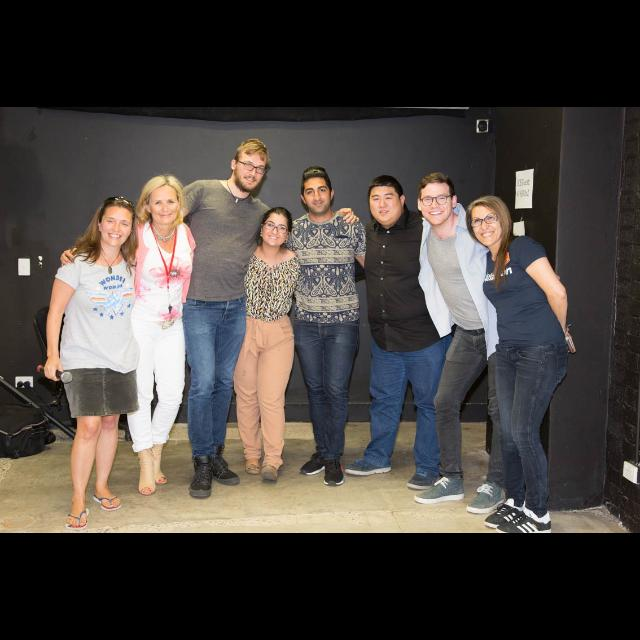head: (416, 173, 458, 227), (468, 196, 508, 248), (143, 176, 183, 226), (368, 175, 406, 225), (96, 201, 136, 247), (232, 142, 268, 192), (260, 206, 294, 248), (301, 172, 335, 214)
person: (56, 135, 362, 502), (410, 169, 520, 516), (41, 194, 143, 534), (344, 172, 451, 496), (278, 162, 370, 490), (116, 169, 200, 499), (228, 204, 306, 486)
